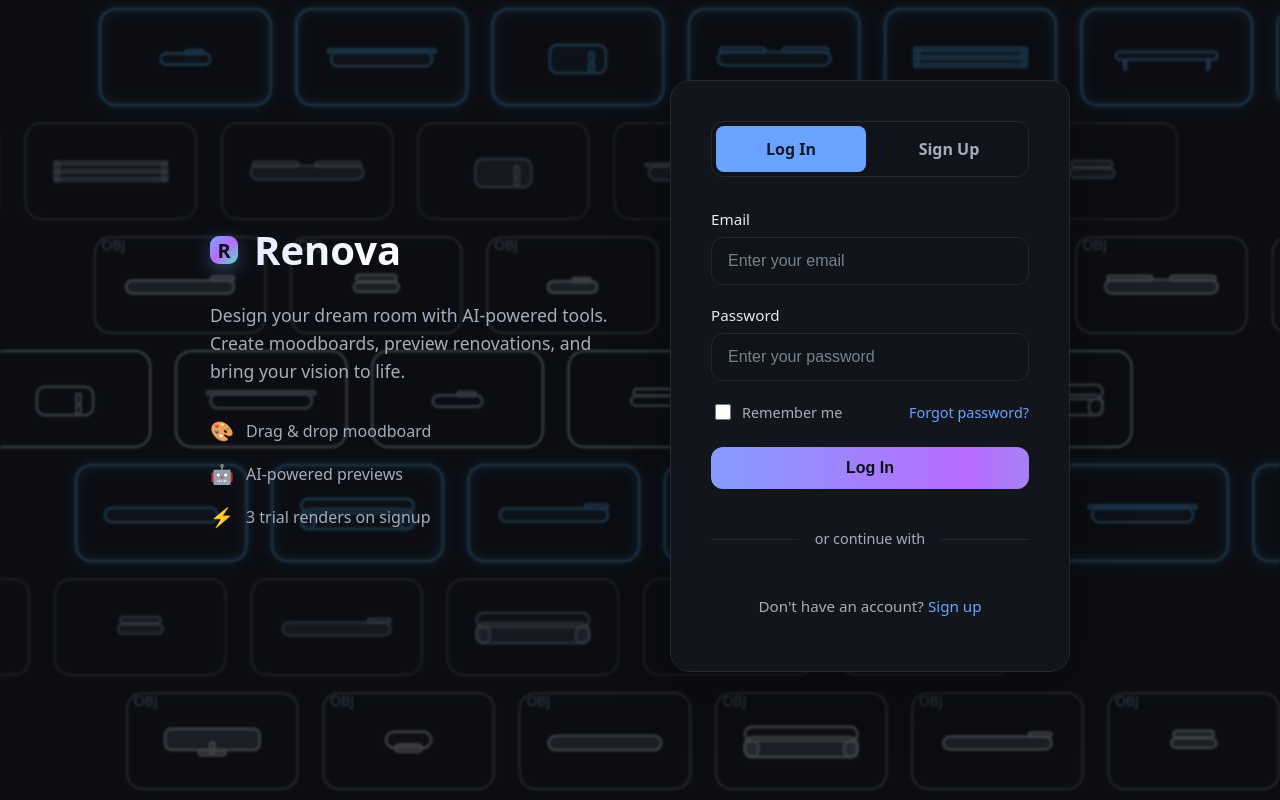
Test: Authentication Flow › should show error for invalid login credentials
Type "wrong@example.com" into the field with id "email". click: (870, 261)
box: [711,237,1029,285]
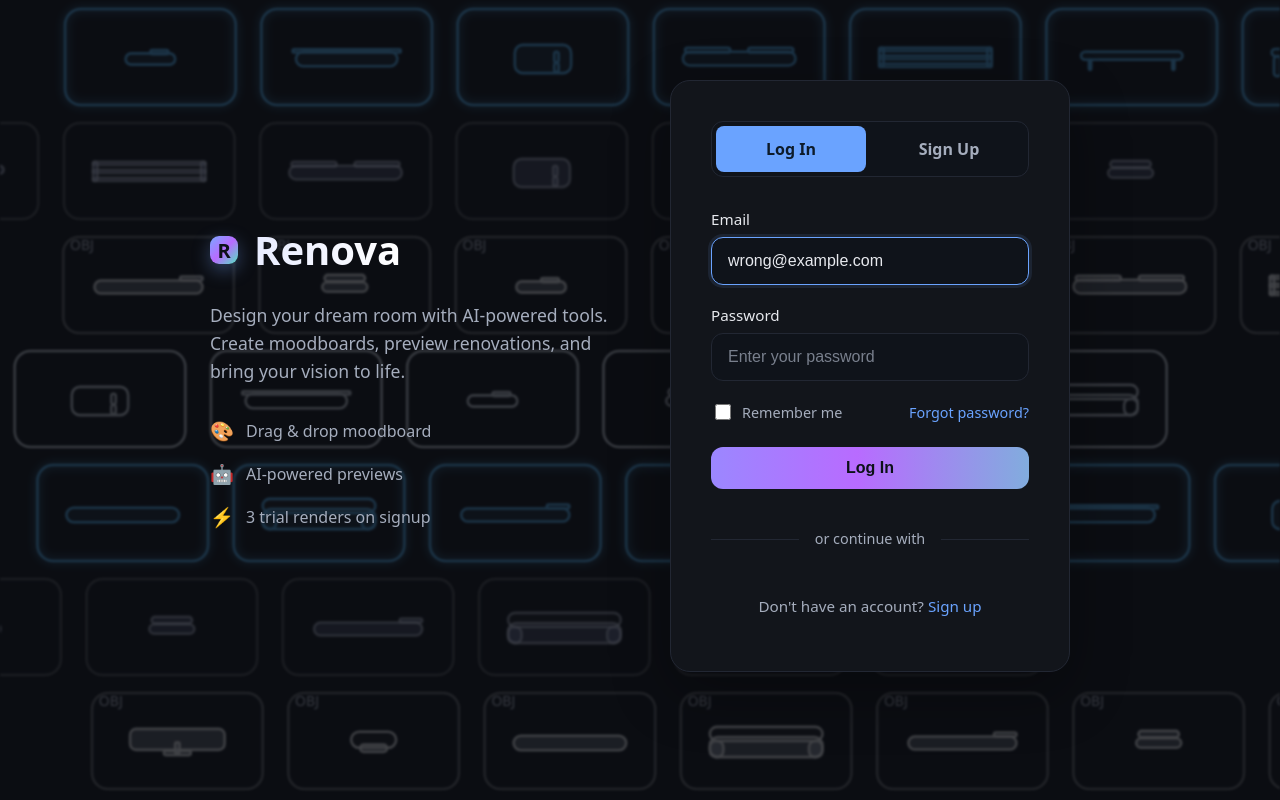
Type "wrongpassword" into the password field labelled "Password". click: (870, 357)
box: [711,333,1029,381]
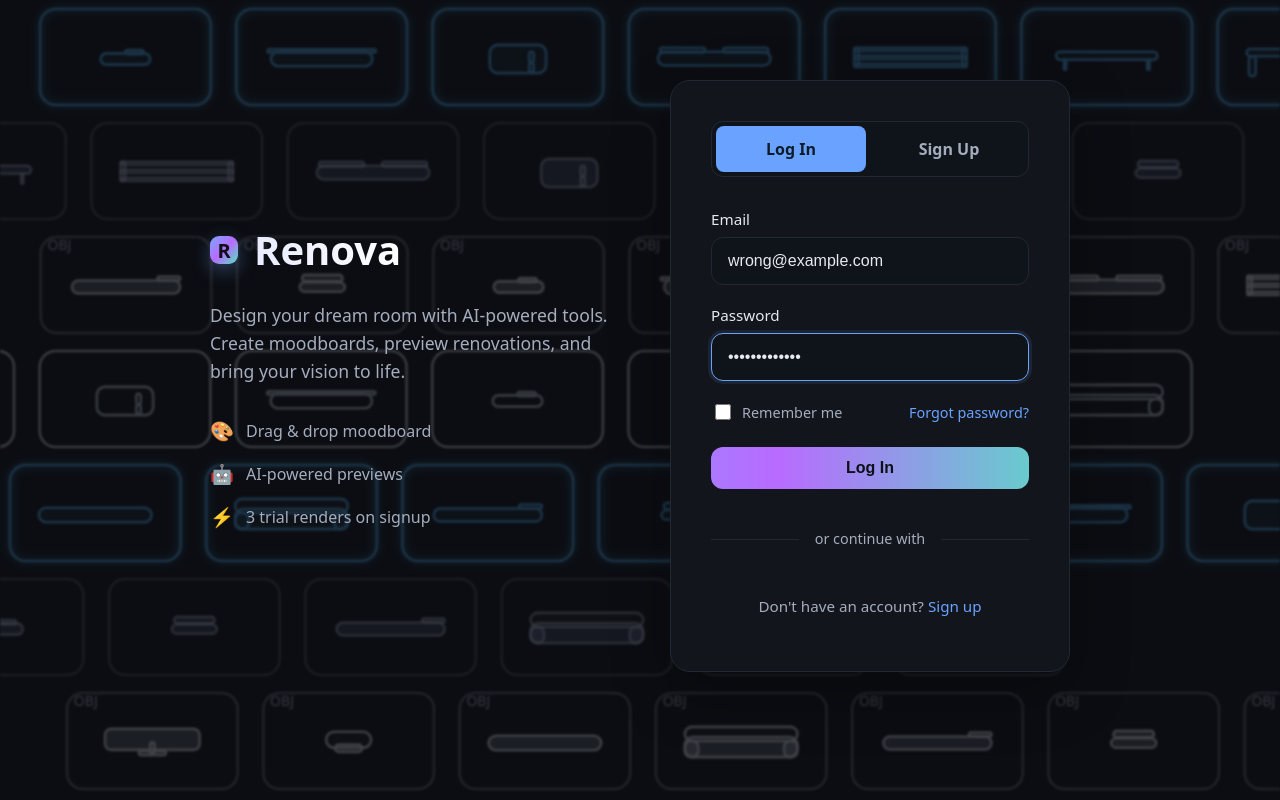
Click the submit button. click: (870, 468)
box: [711,447,1029,489]
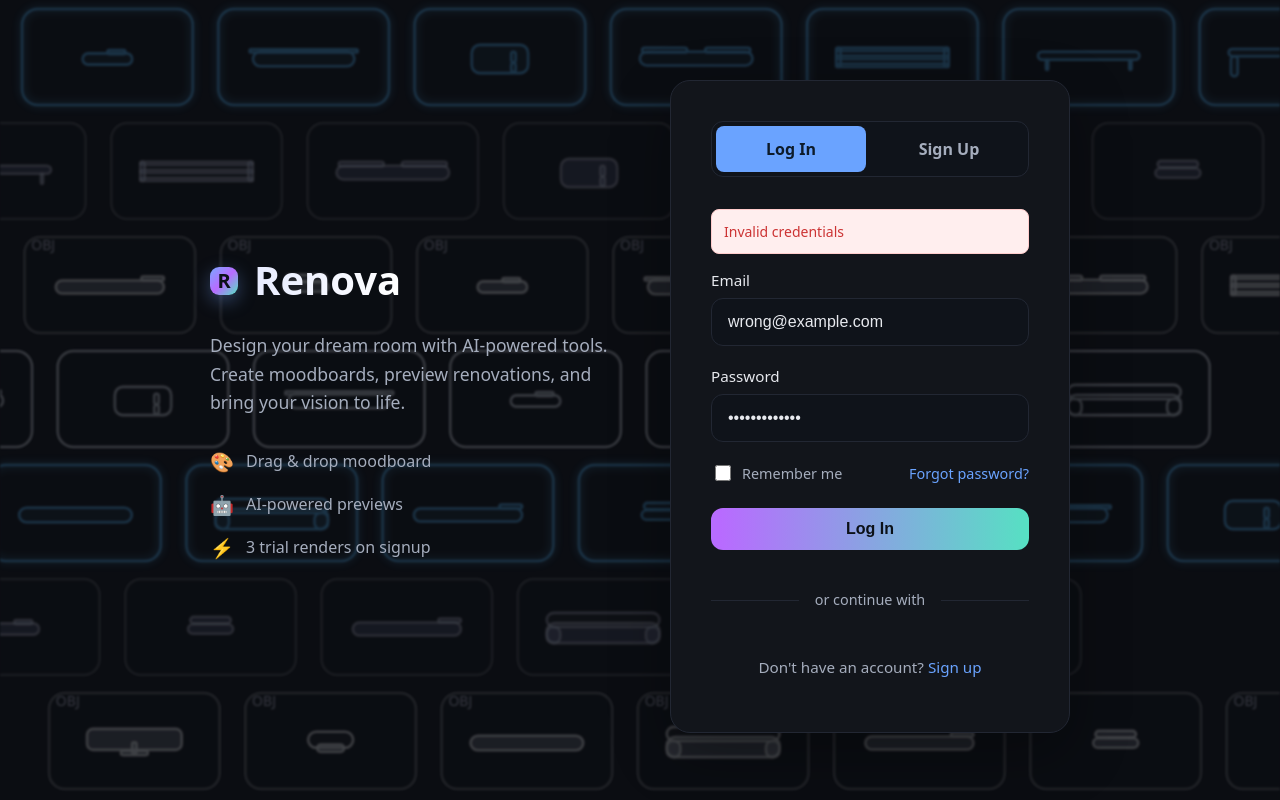
Result: the text with class "error-message" reads "Invalid credentials" at [711,209,1029,254]
